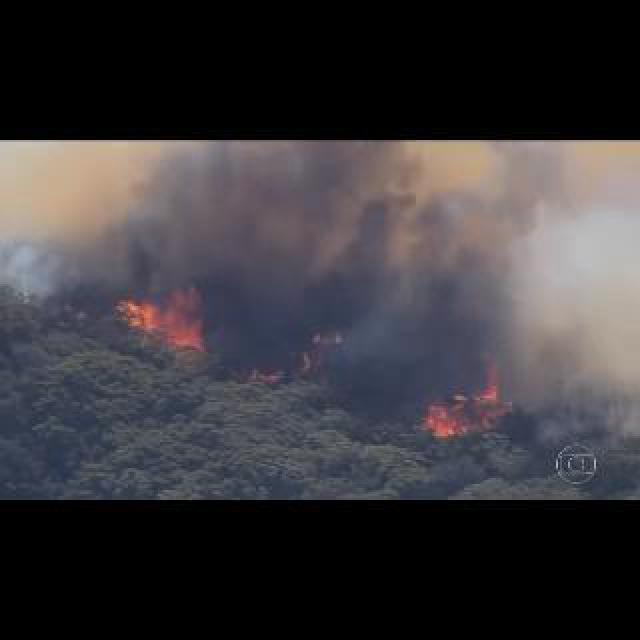Fire: (116, 298, 212, 356), (424, 372, 508, 436), (250, 372, 282, 382)
